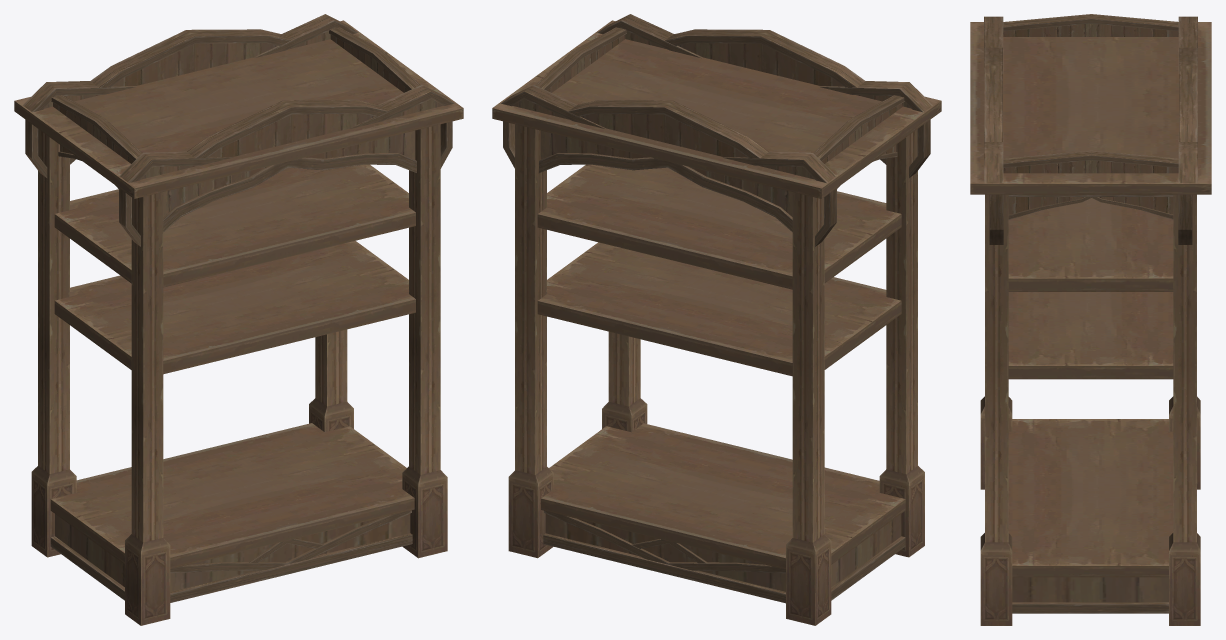
The model's file is Homeworld_Interior_Xm_Cabinet_Prop_CityCupboard_01_Lod0.fbx.
The picture shows the model from 3 angles, left to right: view 1: azimuth 30°, elevation 25°; view 2: azimuth 150°, elevation 25°; view 3: azimuth 270°, elevation 25°; orthographic projection.
Parts seen in each view (by area): view 1: Homeworld_Interior_Xm_Cabinet_Prop_CityCupboard_01_Lod0; view 2: Homeworld_Interior_Xm_Cabinet_Prop_CityCupboard_01_Lod0; view 3: Homeworld_Interior_Xm_Cabinet_Prop_CityCupboard_01_Lod0.
Part boxes in pixels (box(x1,y1,x2,y2)): Homeworld_Interior_Xm_Cabinet_Prop_CityCupboard_01_Lod0: box(14, 14, 463, 625); Homeworld_Interior_Xm_Cabinet_Prop_CityCupboard_01_Lod0: box(492, 14, 941, 625); Homeworld_Interior_Xm_Cabinet_Prop_CityCupboard_01_Lod0: box(970, 14, 1211, 625).
Size of the model in its own units: 3.27 by 4.56 by 2.06.
